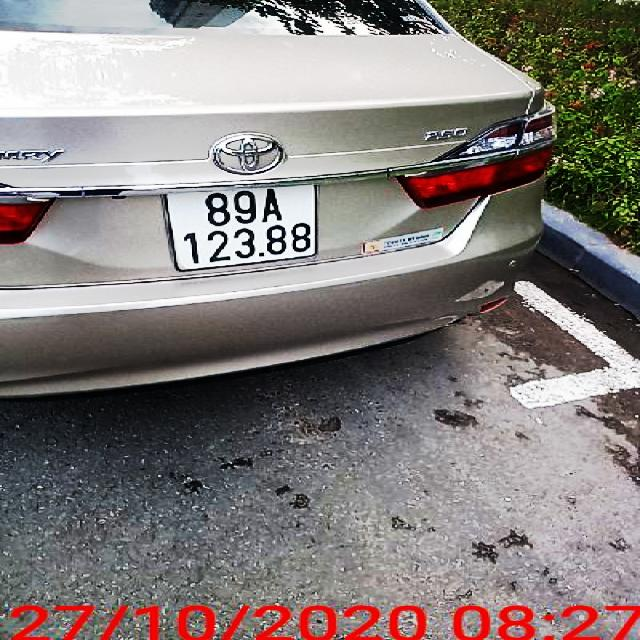license_plate: (168, 185, 320, 271)
